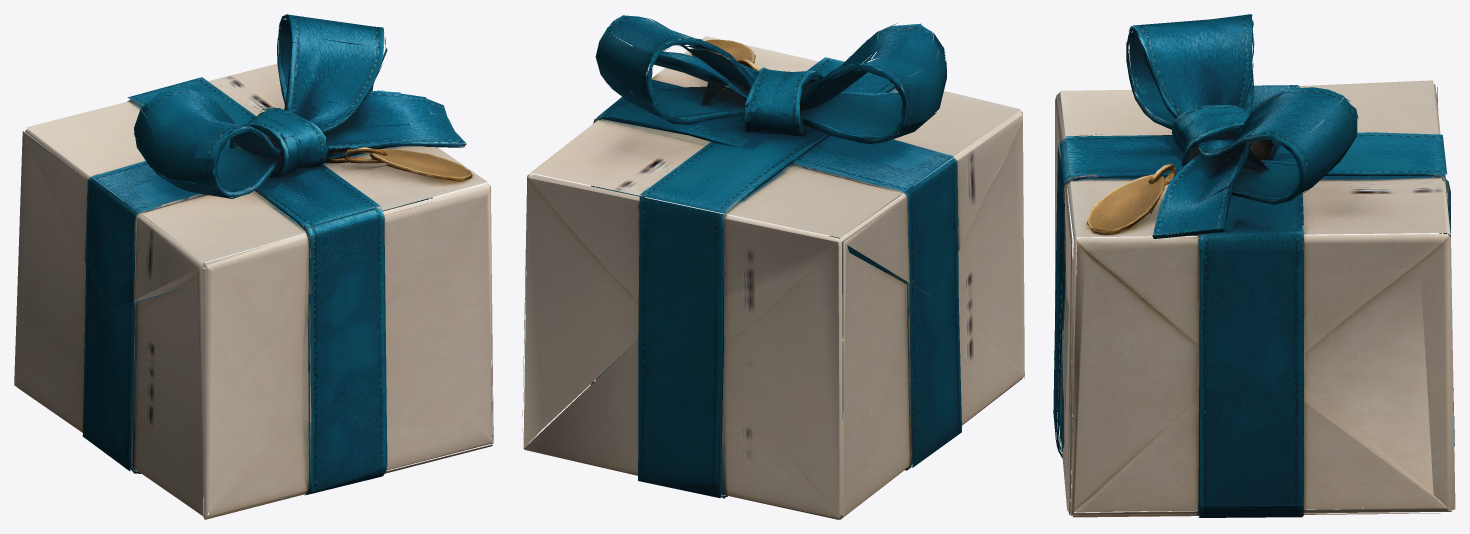
3 renders of one model, left to right at view 1: azimuth 30°, elevation 25°; view 2: azimuth 150°, elevation 25°; view 3: azimuth 270°, elevation 25°, orthographic. The views are drawn at different scales.
Parts seen in each view (by area): view 1: c04_Wrapped_gift_box; view 2: c04_Wrapped_gift_box; view 3: c04_Wrapped_gift_box.
Boxes of the visible parts, x1,y1,x2,y2 form: c04_Wrapped_gift_box: [14, 14, 493, 519]; c04_Wrapped_gift_box: [522, 15, 1024, 519]; c04_Wrapped_gift_box: [1053, 14, 1455, 517].
Size of the model in its own units: 0.2801 by 0.2996 by 0.2799.
1 material, 1 textured.
